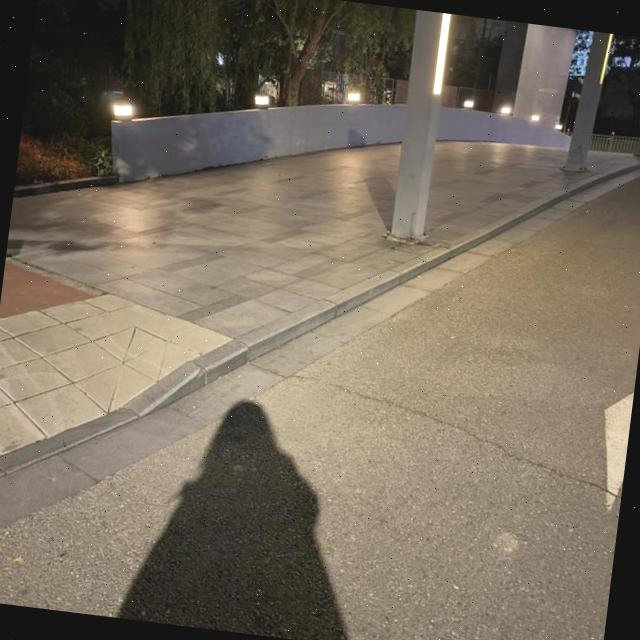curb: (0, 160, 640, 477), (13, 173, 117, 198)
